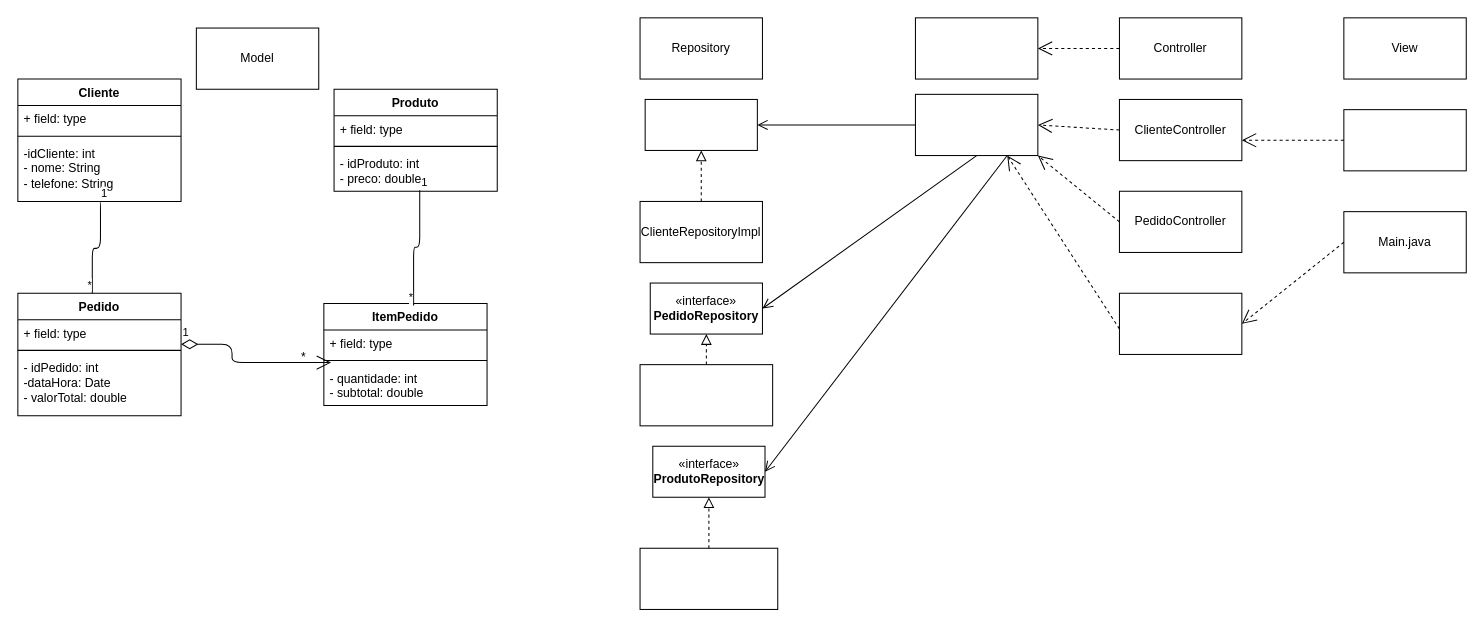
The diagram is 1484 pixels wide and 627 high, and some of its shapes have lost their labels. Each missing label, with the centre of its shape:
"ClienteView" goes at (x=1404, y=140).
"PedidoRepositoryImpl" goes at (x=706, y=395).
"PedidoService" goes at (x=976, y=124).
"ProdutoController" goes at (x=1180, y=323).
"ProdutoRepositoryImpl" goes at (x=708, y=578).
"Service" goes at (x=976, y=48).
"«interface» ClienteRepository" goes at (x=700, y=124).
